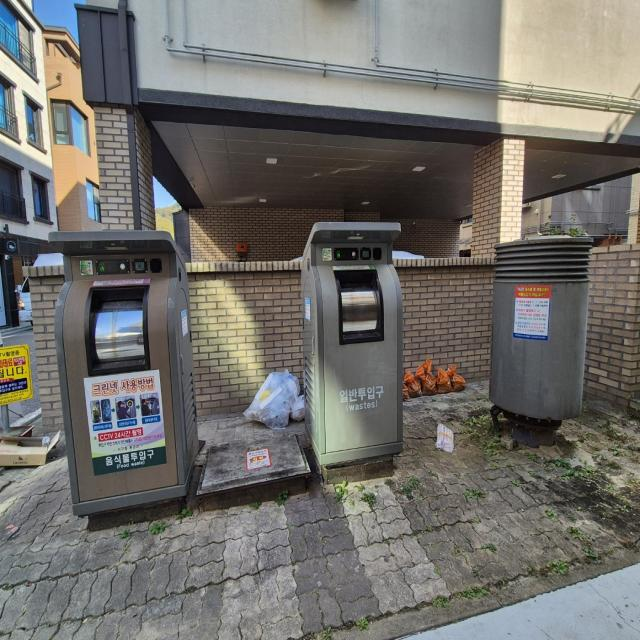CleanNet: (47, 229, 200, 514), (306, 222, 406, 462)
General Waste: (246, 374, 310, 433), (405, 361, 466, 398)
